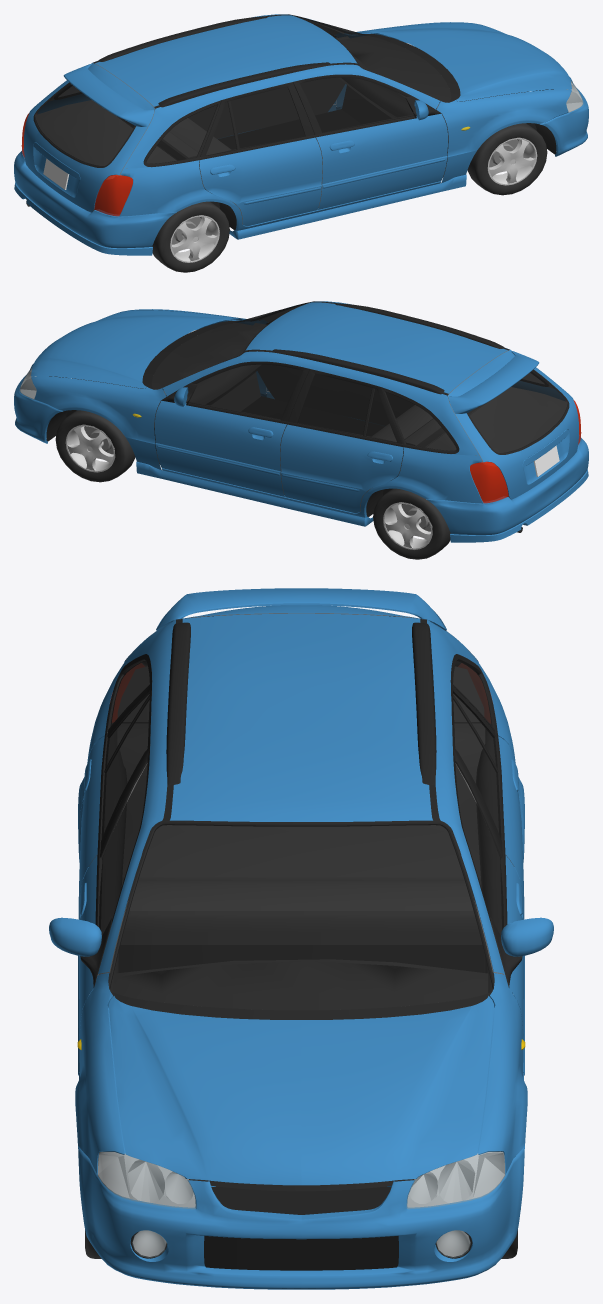
Rendered from car.obj.
The picture shows the model from 3 angles, top to bottom: view 1: azimuth 30°, elevation 25°; view 2: azimuth 150°, elevation 25°; view 3: azimuth 270°, elevation 25°; orthographic projection. The views are drawn at different scales.
Visible parts, largest first — view 1: wing; view 2: wing; view 3: wing.
Boxes of the visible parts, x1=… form: wing: x1=14, y1=14, x2=588, y2=272; wing: x1=14, y1=301, x2=588, y2=559; wing: x1=49, y1=588, x2=553, y2=1289.
Bounding box in the file's own units: 4.93 × 1.48 × 2.11.
